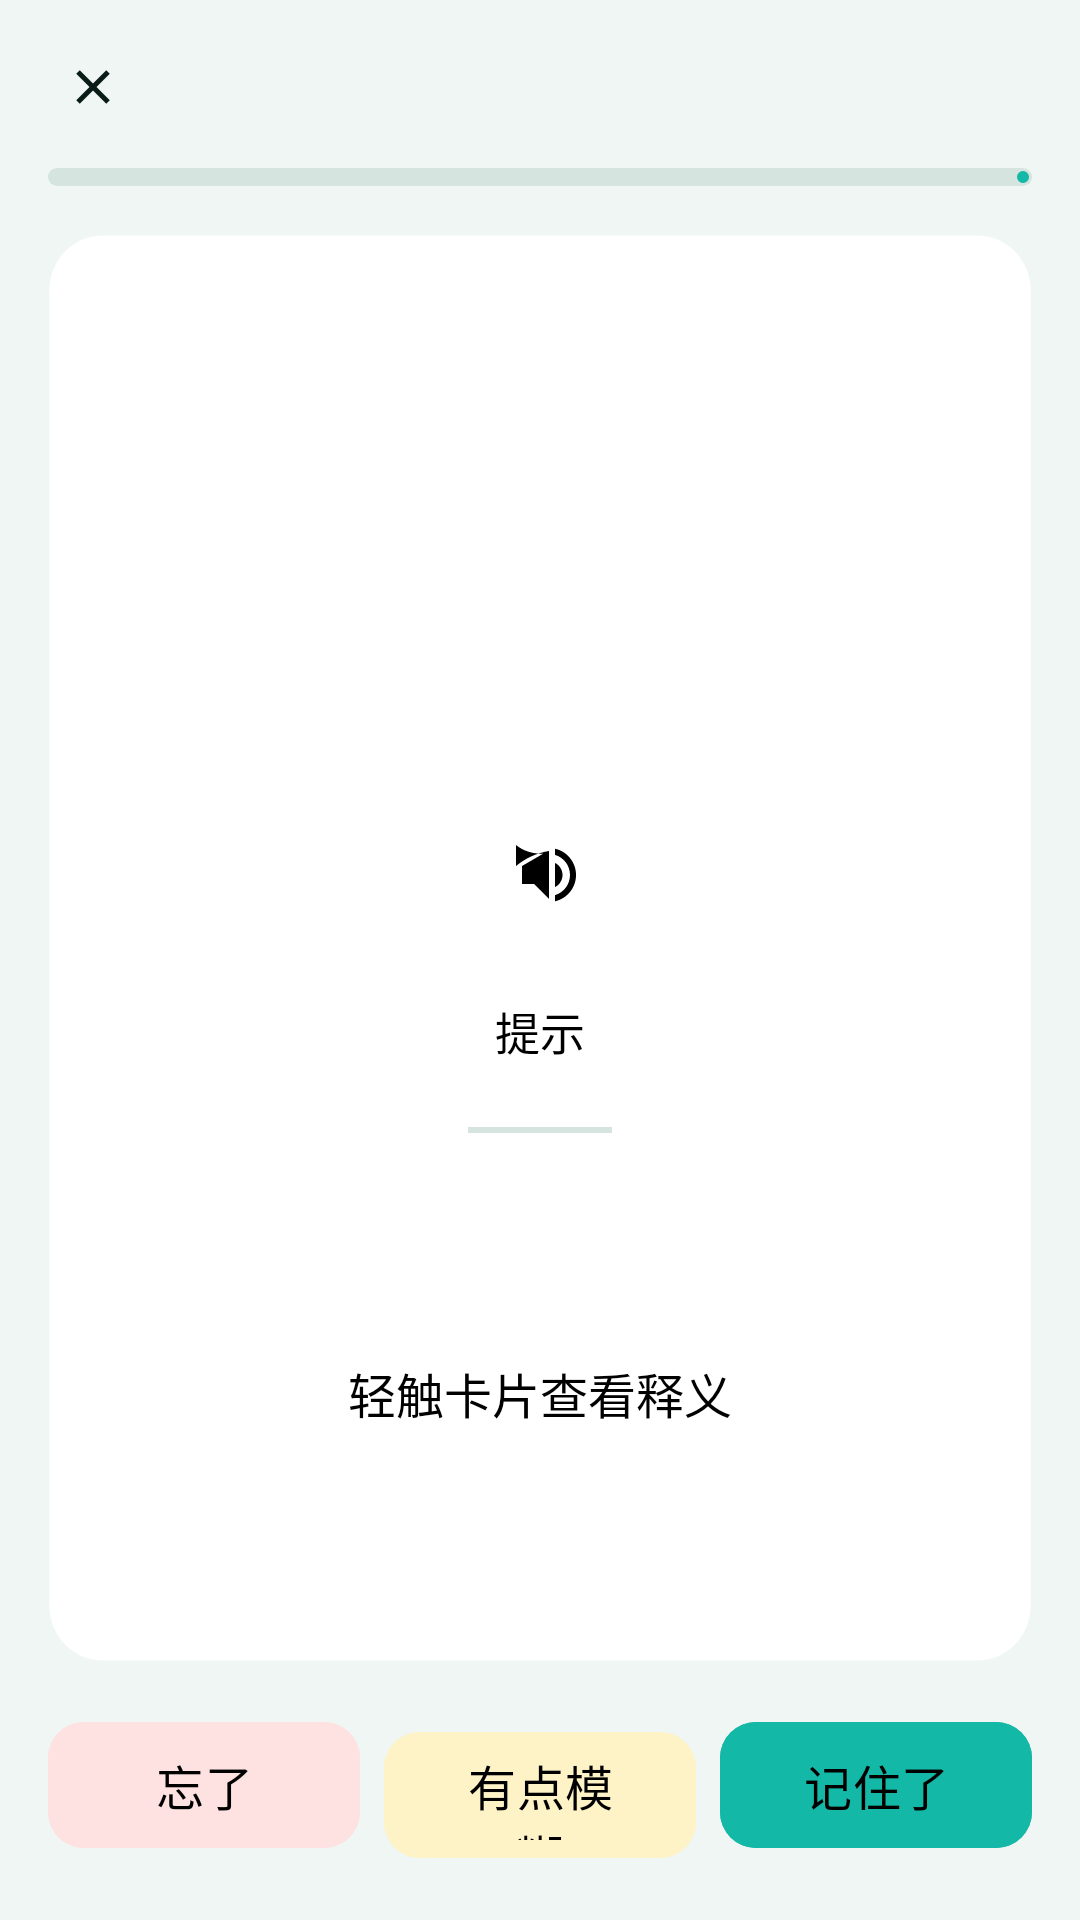

Icons on this 1080*1920 Android screen, each with the point to tap as (x=x, y=y):
关闭: (x=93, y=87)
播放发音: (x=546, y=873)
